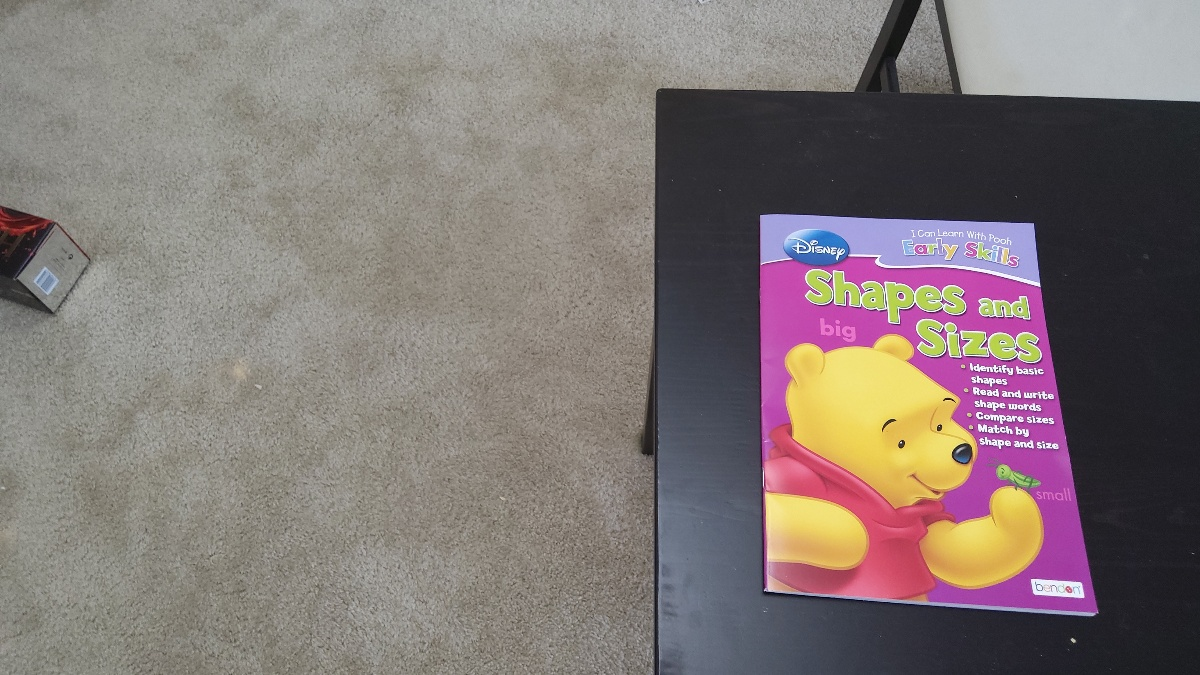book: (753, 209, 1103, 621)
